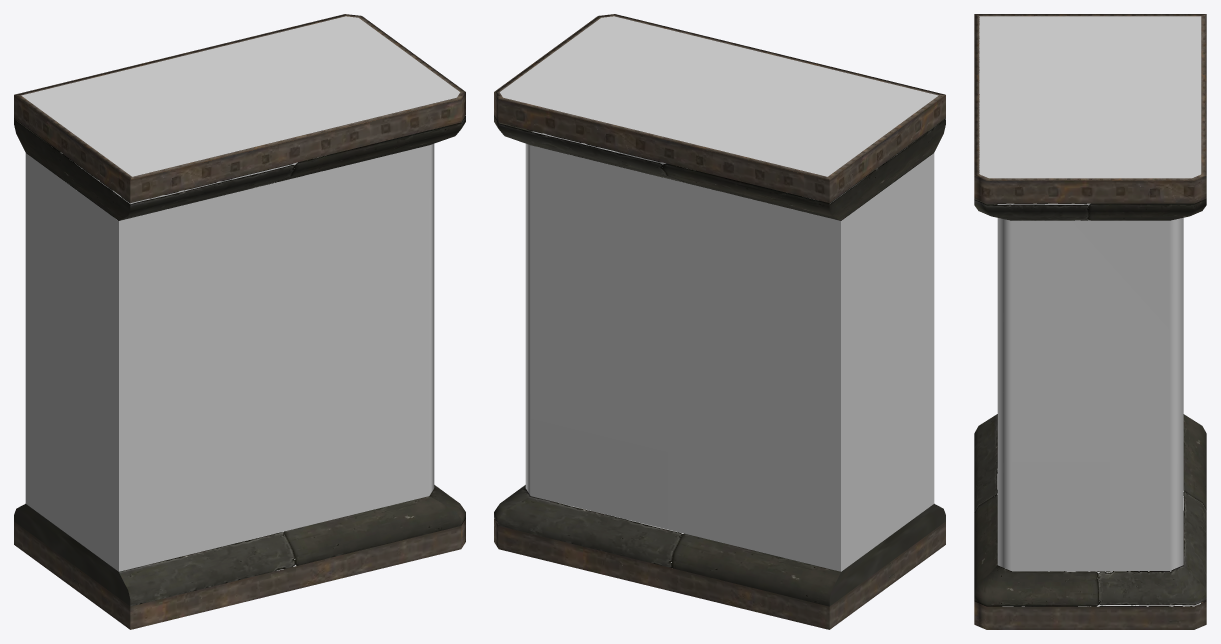
The picture shows the model from 3 angles, left to right: view 1: azimuth 30°, elevation 25°; view 2: azimuth 150°, elevation 25°; view 3: azimuth 270°, elevation 25°; orthographic projection.
Visible parts, largest first — view 1: SM_Dowdun_Buttress_B_03_LOD0; view 2: SM_Dowdun_Buttress_B_03_LOD0; view 3: SM_Dowdun_Buttress_B_03_LOD0.
Boxes of the visible parts, x1,y1,x2,y2 form: SM_Dowdun_Buttress_B_03_LOD0: (14,14,465,629); SM_Dowdun_Buttress_B_03_LOD0: (494,14,945,629); SM_Dowdun_Buttress_B_03_LOD0: (974,14,1206,629).
Size of the model in its own units: 4.23 by 5.32 by 2.49.
Materials: 2 (1 with a texture image).
